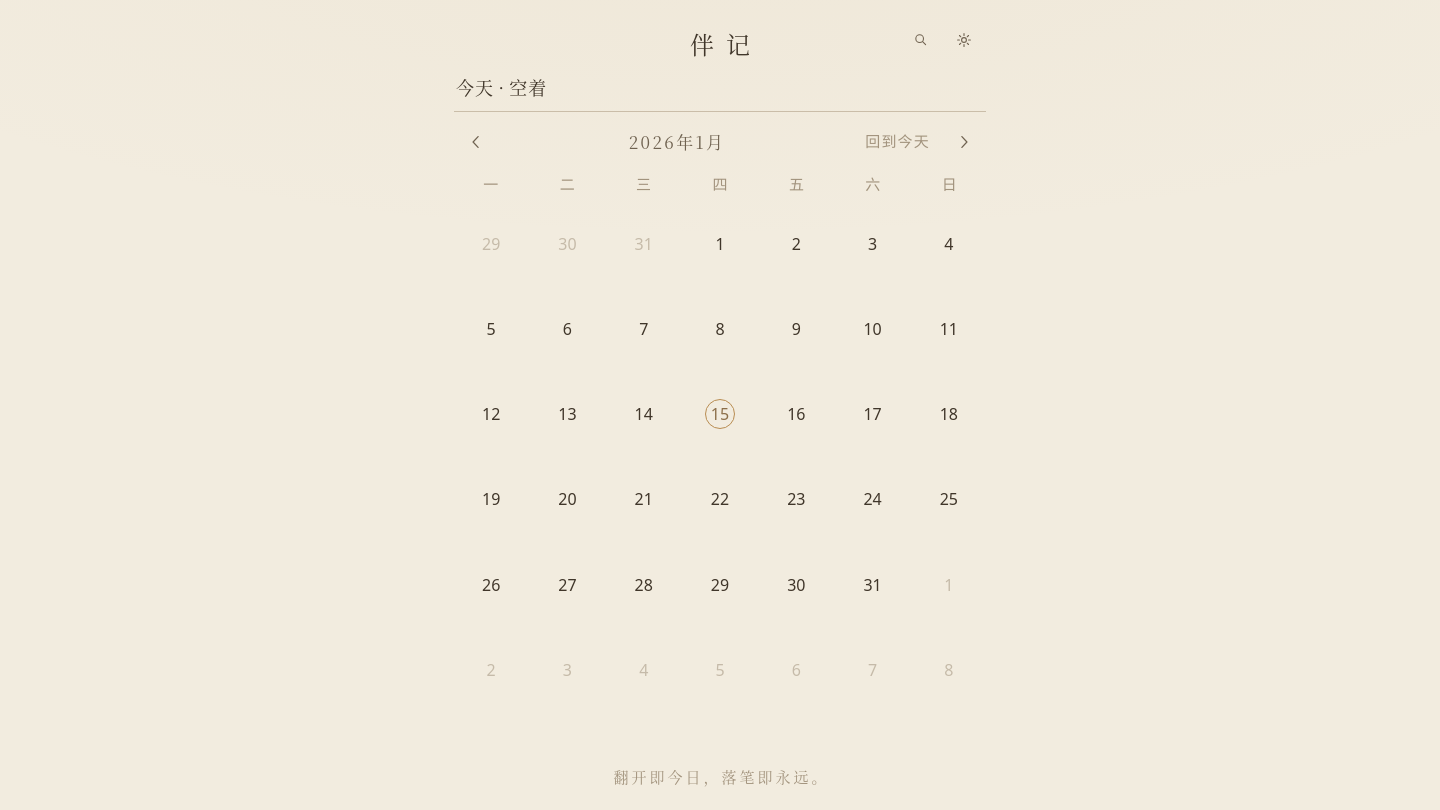
Test: Esc 退场矩阵（R11·D5：每扇自持出口，一处一纪律） › 抽屉：Esc 合上；设置里能看见六行键术单（V2-F2 添「翻页 ←/→」后一行为六）
This screenshot has width=1440, height=810.
Click the button named "设置".
click(964, 40)  # box [942,18,986,62]
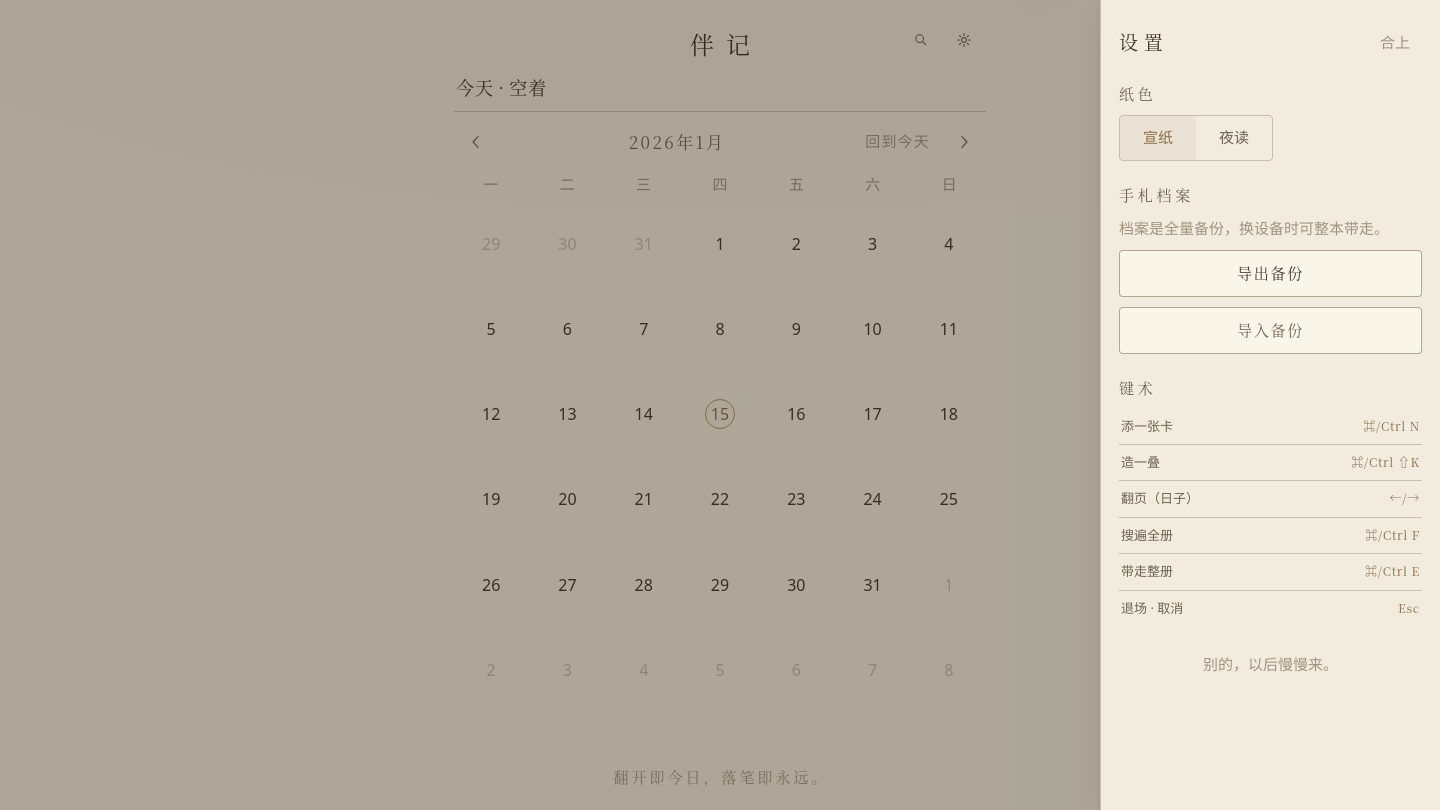
Result: the list is shown at [1119,408,1422,626]
Result: the number of list items is 6 at [1119,408,1422,445]; [1119,445,1422,481]; [1119,481,1422,518]; [1119,518,1422,554]; [1119,554,1422,591]; [1121,599,1420,617]
Press Escape
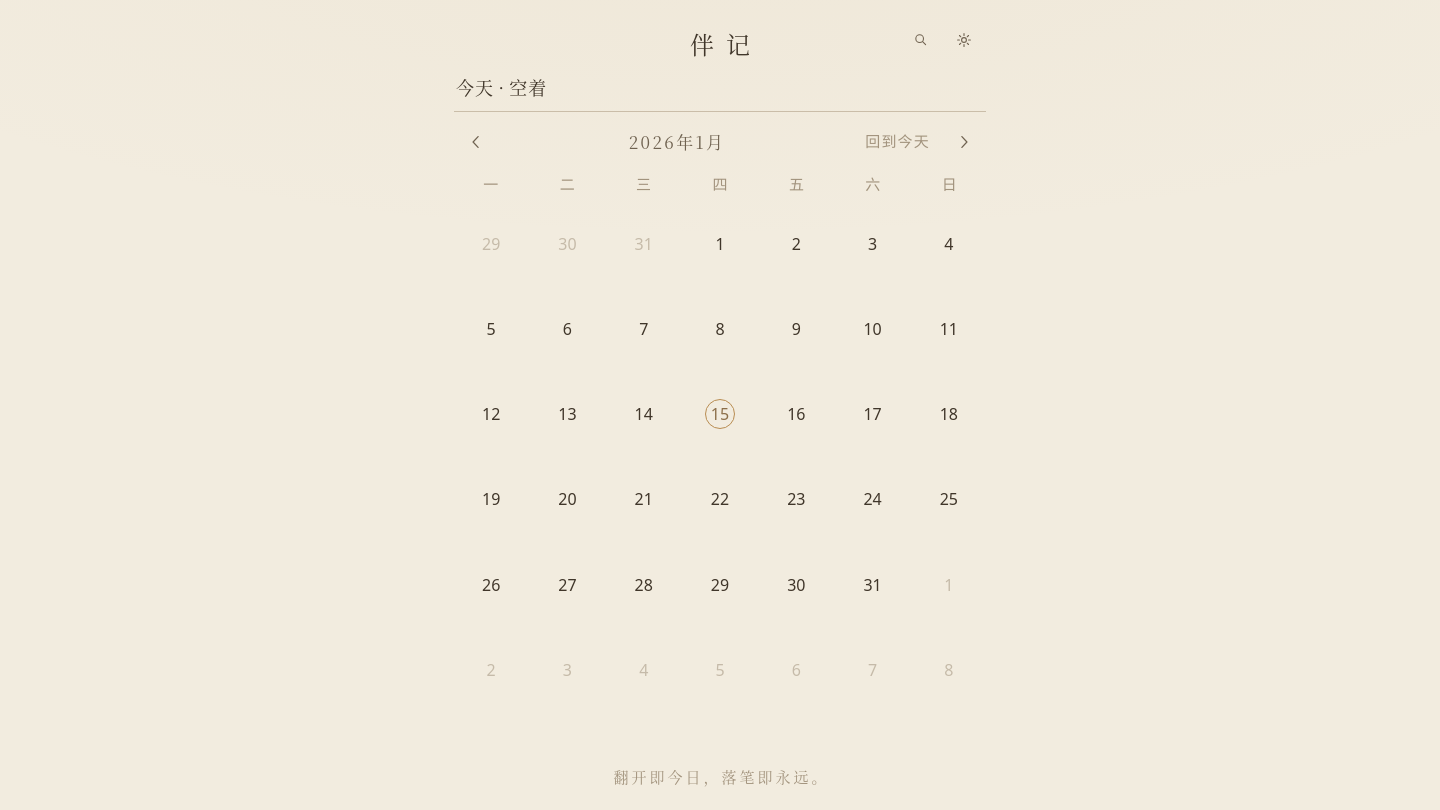
Result: the dialog with class "bj-drawer" is gone
